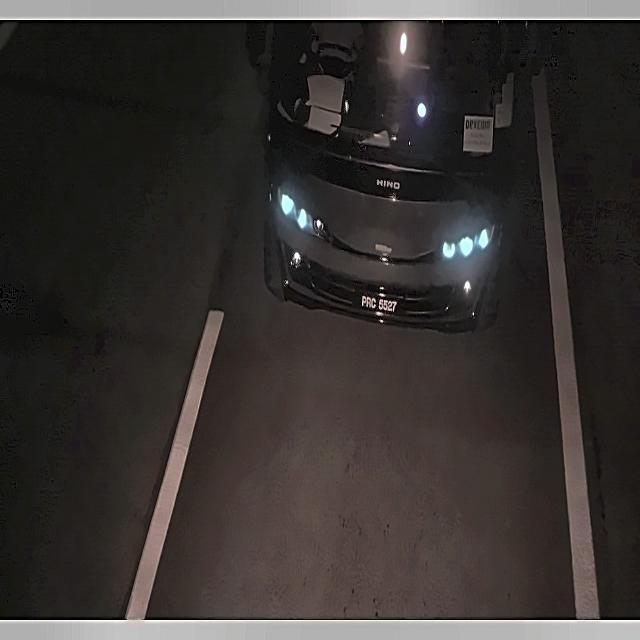car: (357, 291, 399, 319)
